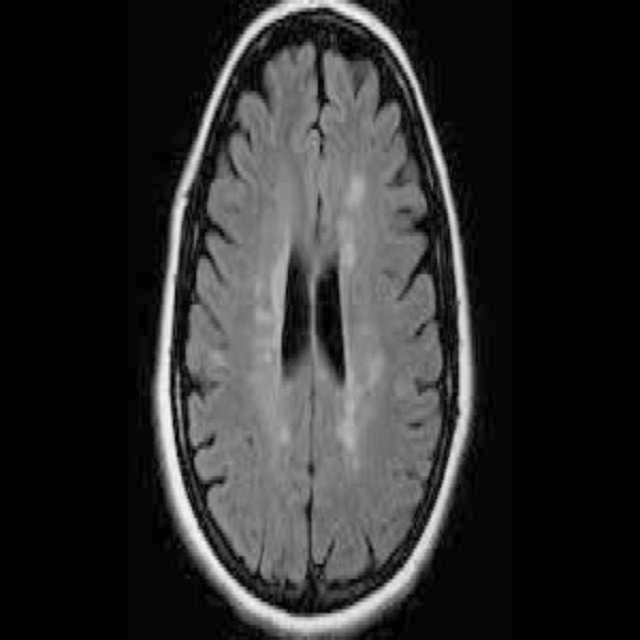glioma tumor: (220, 72, 412, 541)
